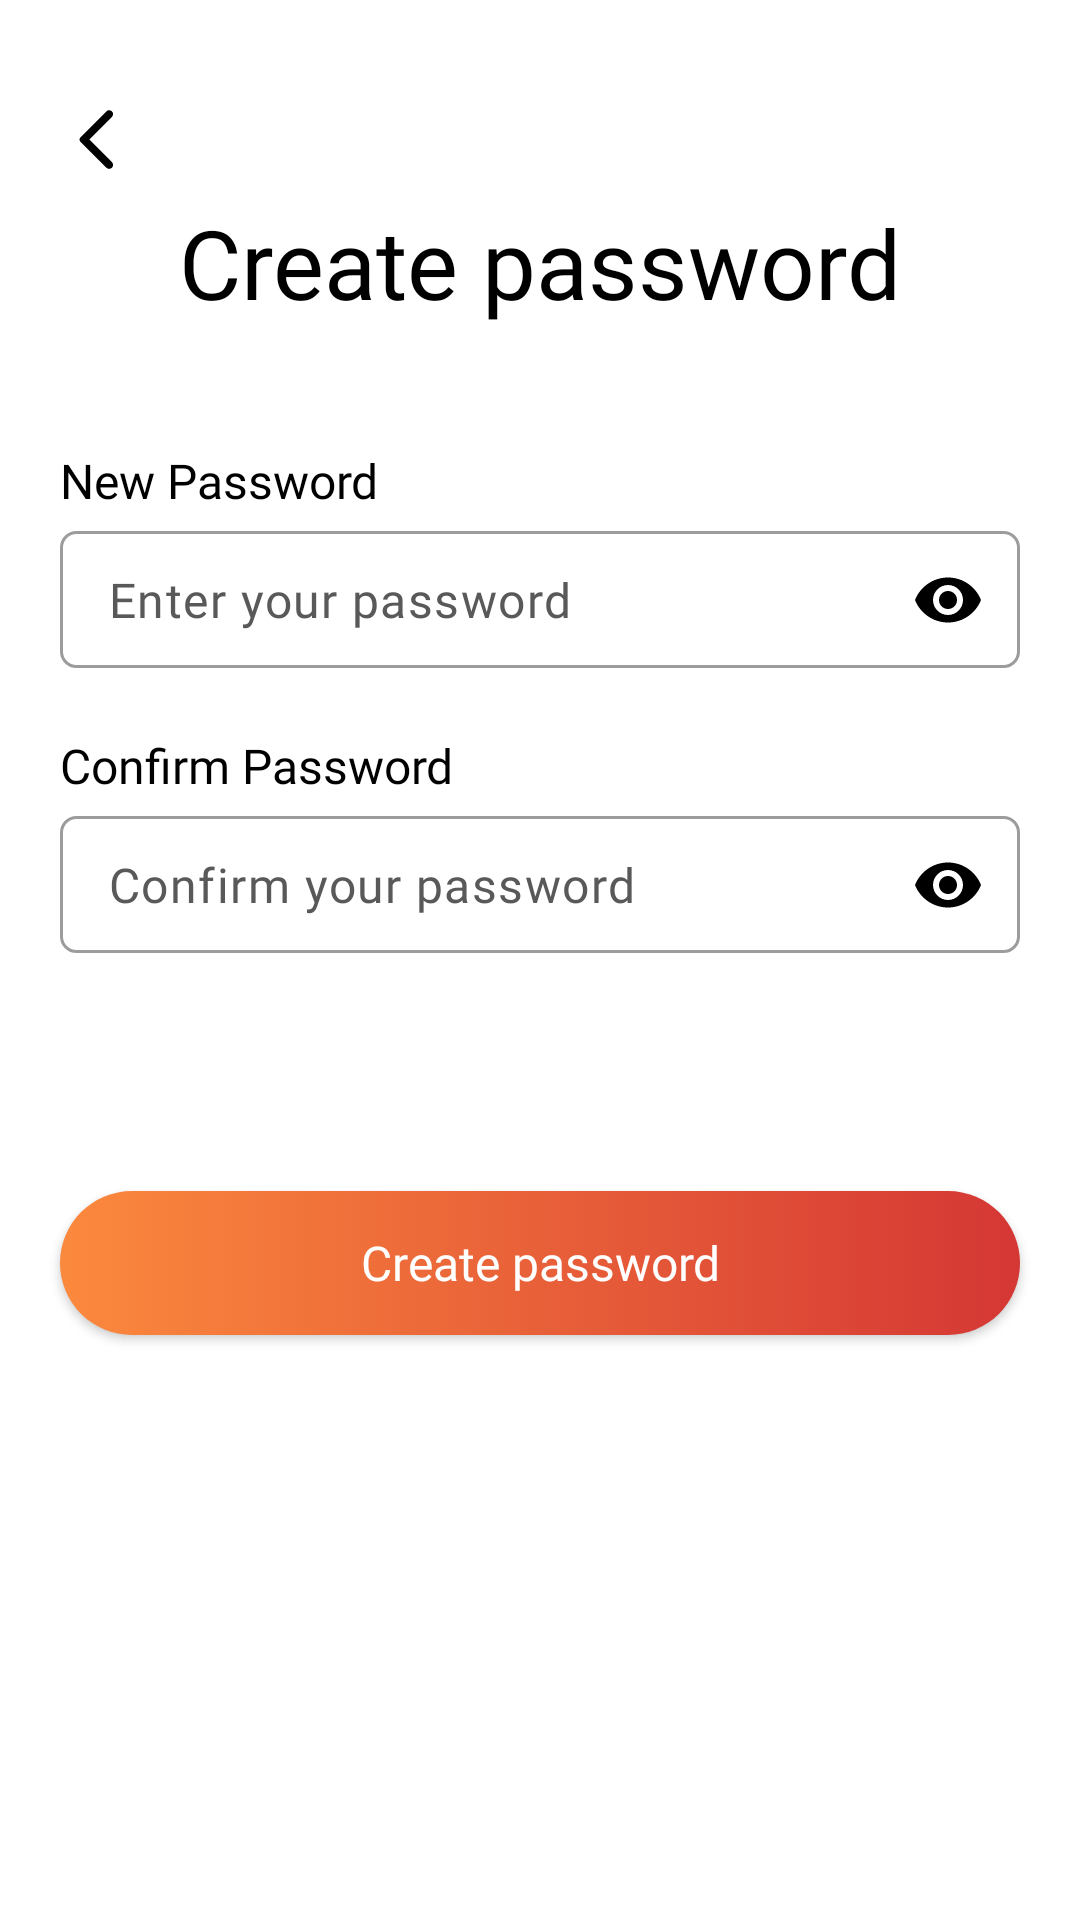

Screen size 1080 × 1920. Icon name, then its center in pixels as [x,y]:
arrow back: [96,139]
